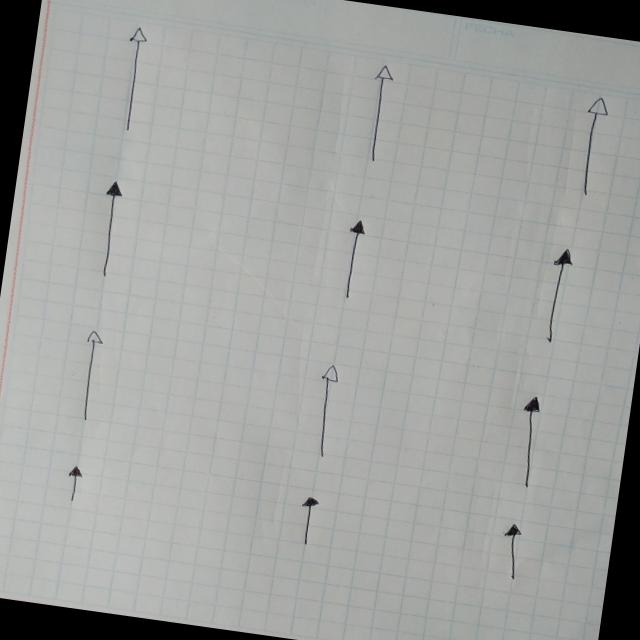arrow_line_up: (510, 395, 549, 491), (116, 25, 150, 134), (576, 94, 610, 197), (361, 64, 396, 164), (93, 180, 127, 278), (540, 246, 572, 346), (310, 364, 342, 459), (75, 328, 106, 424), (339, 218, 366, 302), (496, 522, 528, 580), (294, 494, 320, 548), (61, 462, 84, 506)
